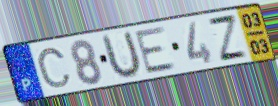4: (184, 20, 215, 65)
8: (69, 38, 104, 87)
C: (36, 46, 73, 89)
E: (133, 24, 179, 76)
U: (101, 29, 143, 82)
Z: (205, 14, 250, 63)
